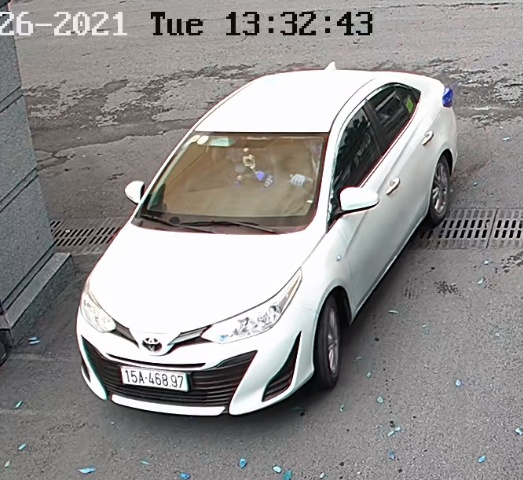vehicle plate: (116, 360, 198, 397)
